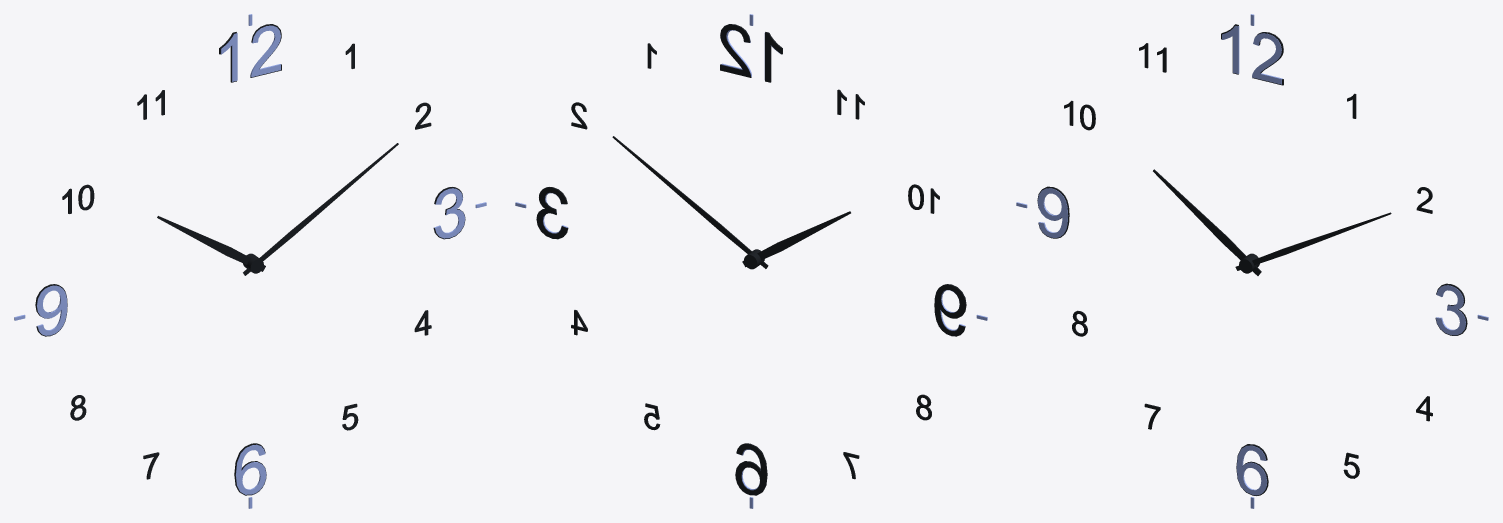
Rendered from wallClock-5.glb.
3 renders of one model, left to right at view 1: azimuth 30°, elevation 25°; view 2: azimuth 150°, elevation 25°; view 3: azimuth 330°, elevation 25°, orthographic.
Parts seen in each view (by area): view 1: Clock_EDS_lavender, Clock_graphite, Clock_minute_hand_blade, Clock_hour_hand_blade; view 2: Clock_graphite, Clock_minute_hand_blade, Clock_EDS_lavender, Clock_hour_hand_blade; view 3: Clock_EDS_lavender, Clock_graphite, Clock_hour_hand_blade, Clock_minute_hand_blade.
Part boxes in pixels (bbox=[...]): Clock_EDS_lavender: bbox=[14, 14, 486, 508]; Clock_graphite: bbox=[35, 24, 465, 495]; Clock_minute_hand_blade: bbox=[243, 143, 398, 275]; Clock_hour_hand_blade: bbox=[157, 216, 265, 271]; Clock_graphite: bbox=[536, 24, 966, 495]; Clock_minute_hand_blade: bbox=[612, 136, 768, 268]; Clock_EDS_lavender: bbox=[515, 14, 987, 508]; Clock_hour_hand_blade: bbox=[742, 211, 850, 267]; Clock_EDS_lavender: bbox=[1016, 14, 1488, 508]; Clock_graphite: bbox=[1037, 24, 1467, 495]; Clock_hour_hand_blade: bbox=[1153, 169, 1261, 275]; Clock_minute_hand_blade: bbox=[1235, 212, 1391, 270].
Size of the model in its own units: 1.25 by 1.25 by 0.035.
